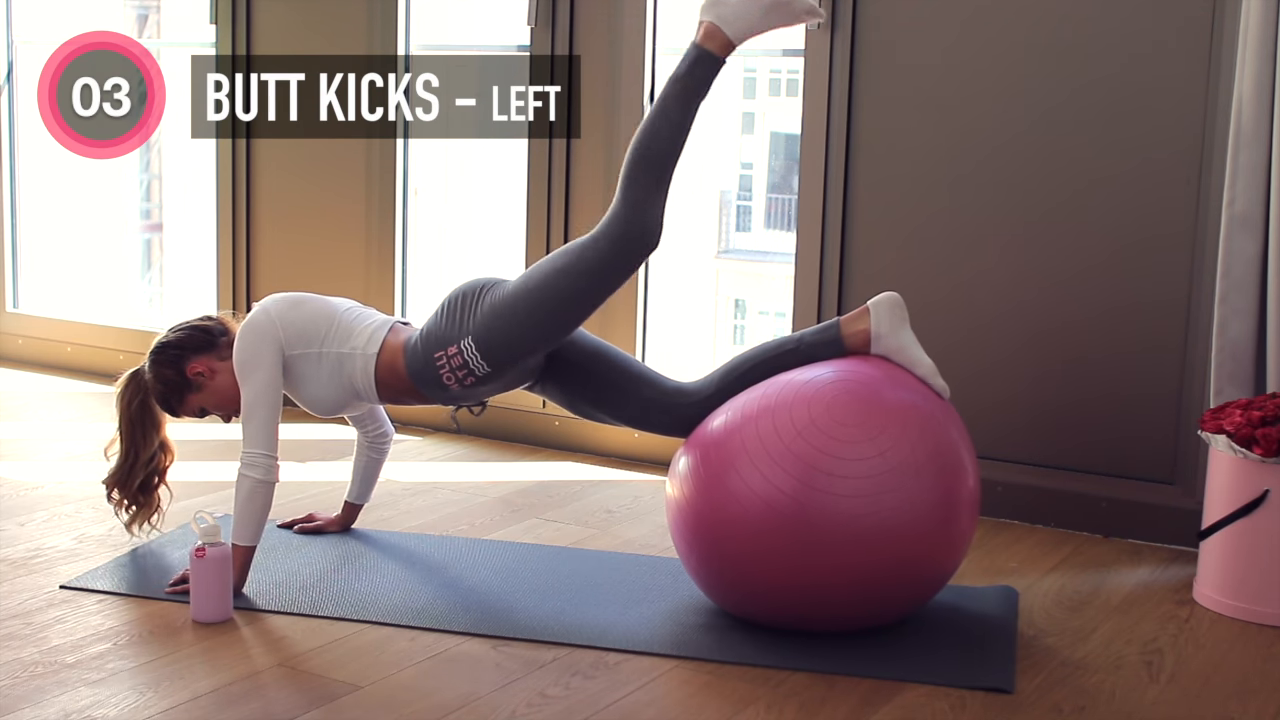yogaball: (661, 348, 988, 652)
